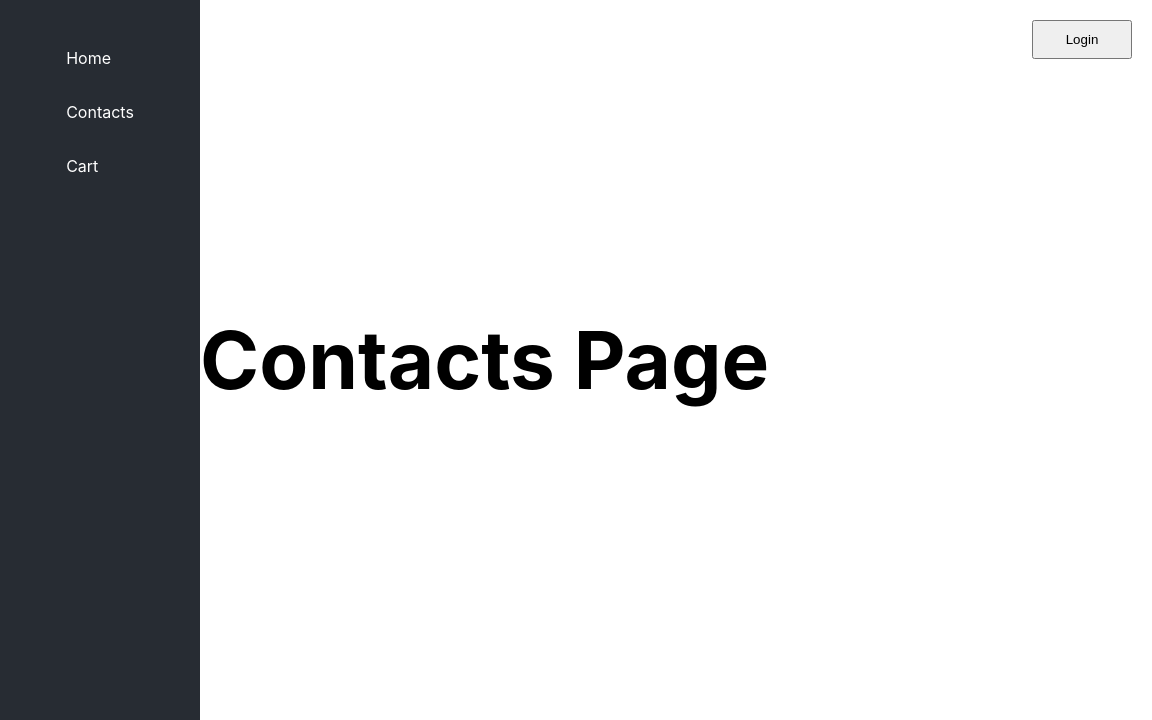
Test: App › should not displayed Shopping cart page for non-logged user
Step 1. Click the link "Cart" → (82, 166), box x1=66 y1=156 x2=98 y2=176
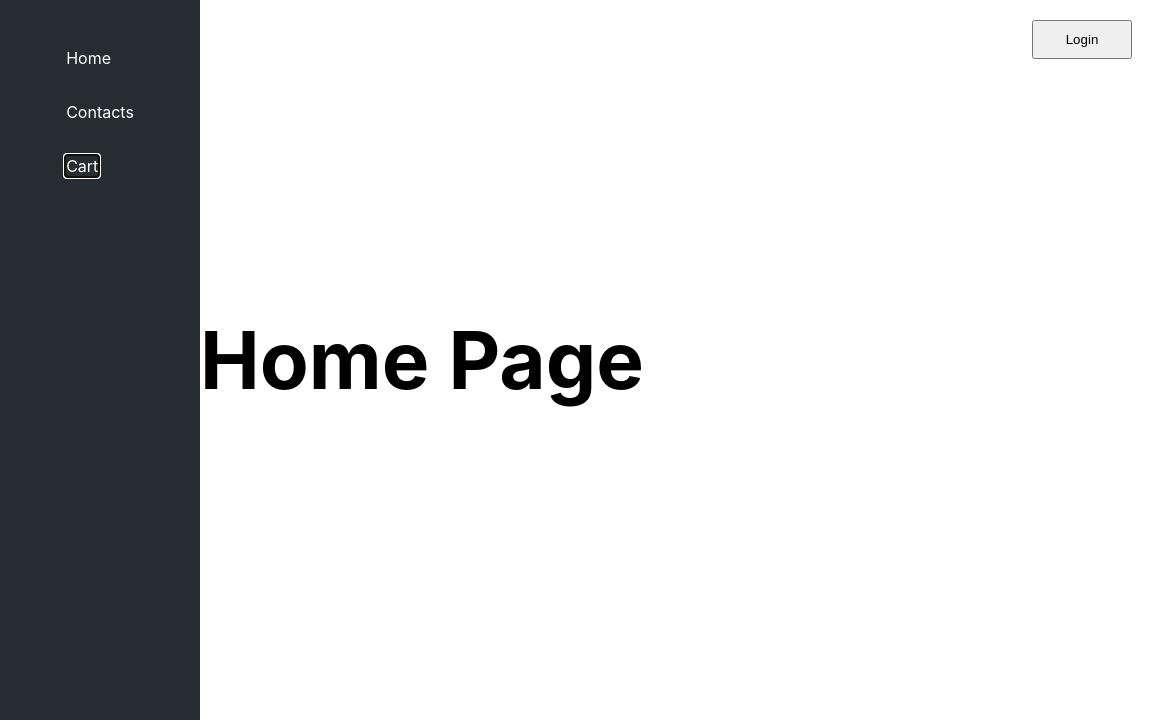
Check: the heading "Contacts Page" is gone
